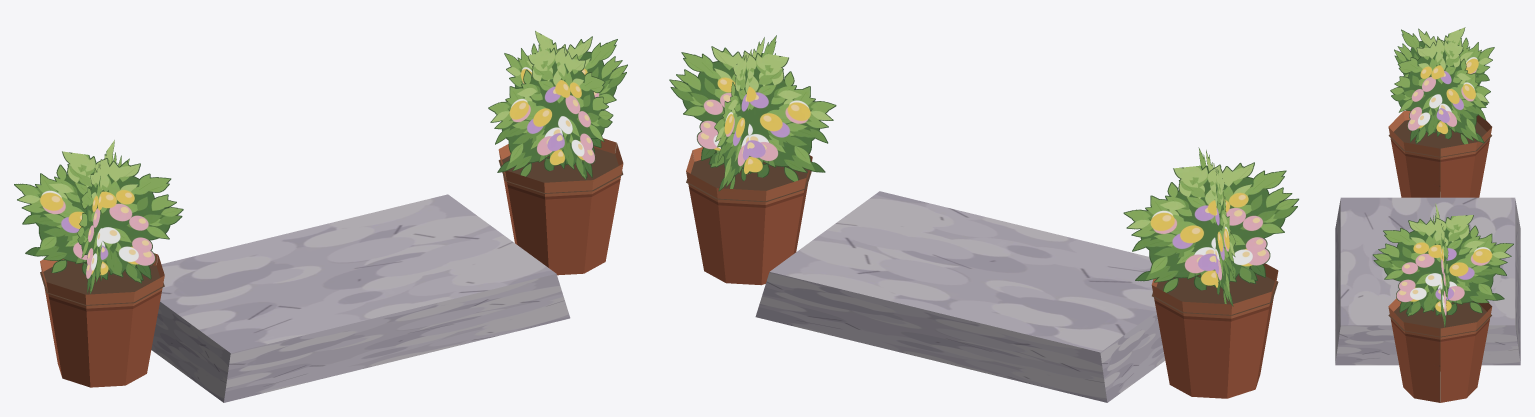
The model's file is doorstep.glb.
3 renders of one model, left to right at view 1: azimuth 30°, elevation 25°; view 2: azimuth 150°, elevation 25°; view 3: azimuth 270°, elevation 25°, orthographic. The views are drawn at different scales.
Parts seen in each view (by area): view 1: doorstep; view 2: doorstep; view 3: doorstep.
Boxes of the visible parts, x1,y1,x2,y2 form: doorstep: (14,31,627,402); doorstep: (669,35,1299,402); doorstep: (1335,27,1520,402).
Size of the model in its own units: 2.24 by 0.76 by 0.75.
1 material, 1 textured.
